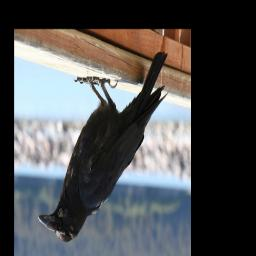Crow: (37, 50, 169, 244)
